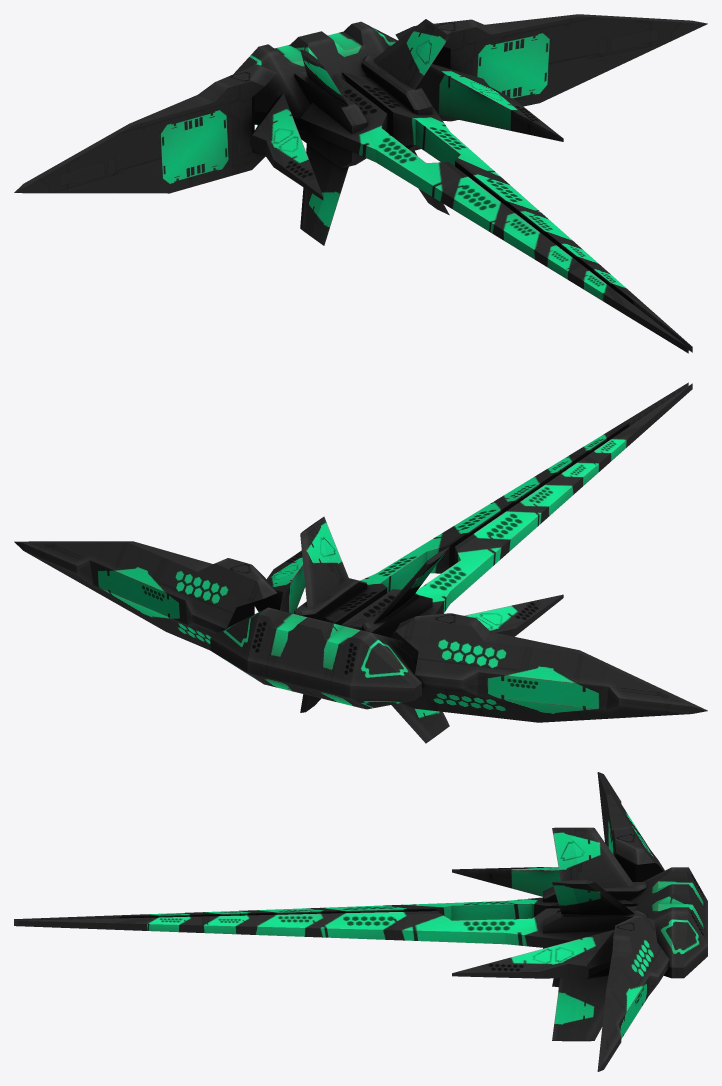
The model's file is stinger.glb.
3 views of the same model, one above another, from view 1: azimuth 30°, elevation 25°; view 2: azimuth 150°, elevation 25°; view 3: azimuth 270°, elevation 25° (orthographic). The views are drawn at different scales.
Parts seen in each view (by area): view 1: alien_fighter_nose; view 2: alien_fighter_nose; view 3: alien_fighter_nose.
Part boxes in pixels (x1,y1,x2,y2): alien_fighter_nose: [14, 14, 707, 353]; alien_fighter_nose: [14, 382, 707, 743]; alien_fighter_nose: [14, 772, 707, 1071].
Bounding box in the file's own units: 4.13 × 1.03 × 4.04.
Materials: 1 (1 with a texture image).
